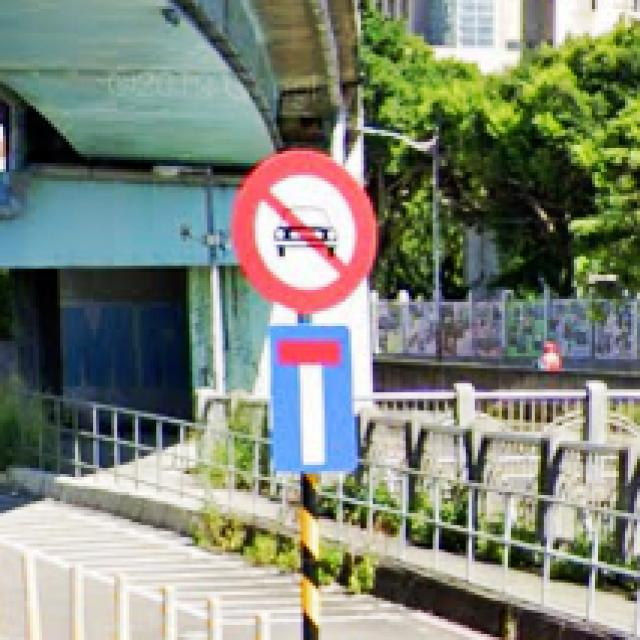nocar: (231, 151, 376, 311)
